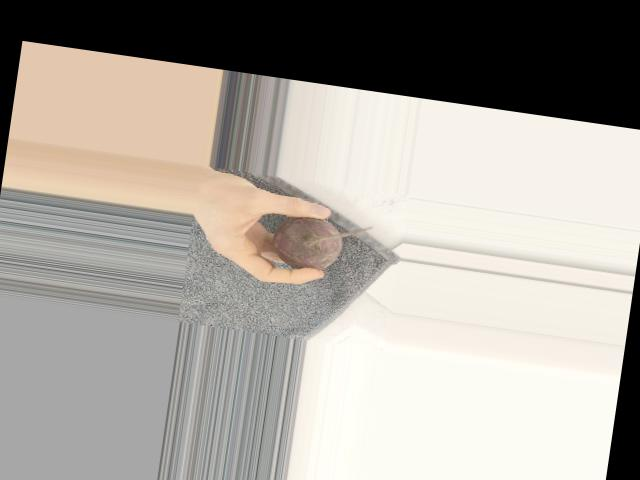beet: (270, 212, 373, 278)
